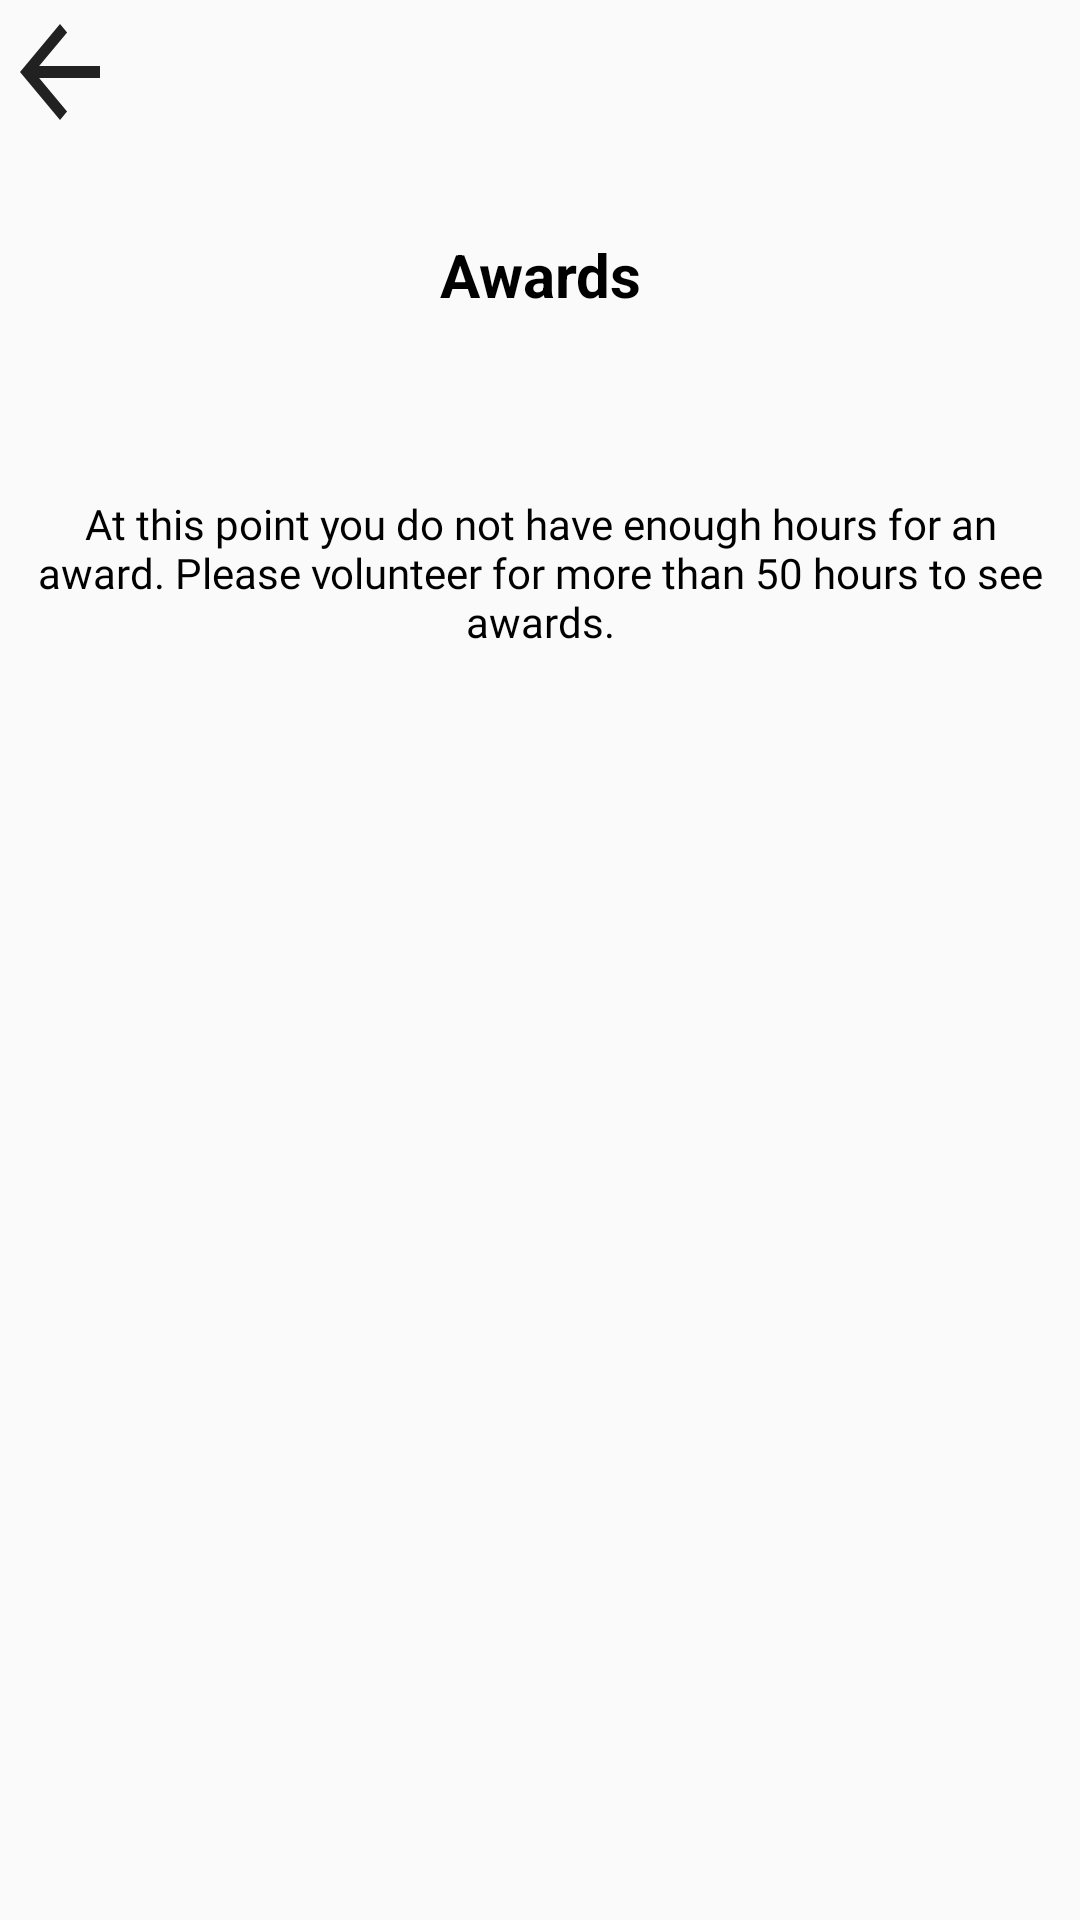

Where to tap for icons on this 1080 x 1920 app screen, as [x,y]:
backarrow: [60,72]
